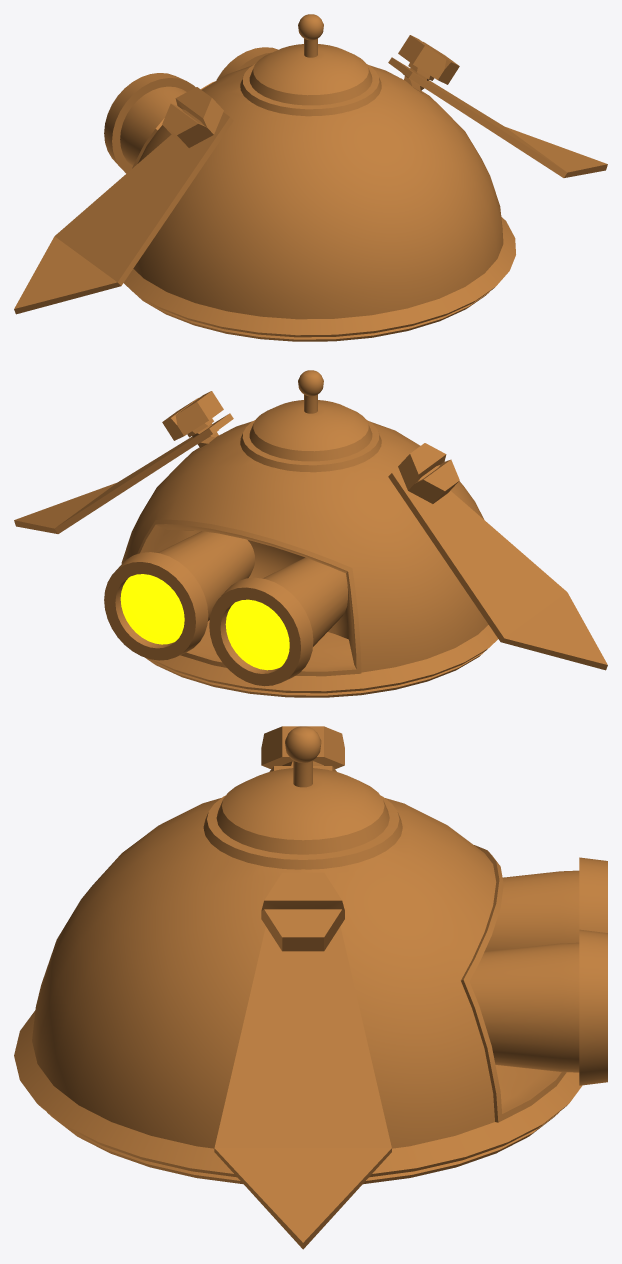
File: CK_Cog_Helper 1.fbx
3 renders of one model, top to bottom at view 1: azimuth 30°, elevation 25°; view 2: azimuth 150°, elevation 25°; view 3: azimuth 270°, elevation 25°, orthographic. The views are drawn at different scales.
Parts seen in each view (by area): view 1: Cube, Plane.001, Cube.001, Cylinder, Plane, Cylinder.002, Cylinder.001; view 2: Cube, Cylinder, Plane.001, Cube.001, Plane, Cylinder.002, Cylinder.001; view 3: Cube, Plane, Cylinder, Cube.001, Cylinder.001, Cylinder.002.
Part boxes in pixels (left/top/right/bottom): Cube: left=124, top=65, right=515, bottom=341; Plane.001: left=14, top=112, right=233, bottom=314; Cube.001: left=240, top=14, right=381, bottom=116; Cylinder: left=104, top=47, right=277, bottom=173; Plane: left=388, top=57, right=607, bottom=177; Cylinder.002: left=162, top=87, right=223, bottom=147; Cylinder.001: left=398, top=35, right=459, bottom=93; Cube: left=121, top=421, right=497, bottom=697; Cylinder: left=104, top=531, right=347, bottom=686; Plane.001: left=388, top=468, right=607, bottom=670; Cube.001: left=240, top=370, right=381, bottom=472; Plane: left=14, top=413, right=233, bottom=533; Cylinder.002: left=398, top=443, right=459, bottom=503; Cylinder.001: left=162, top=391, right=223, bottom=449; Cube: left=14, top=798, right=582, bottom=1184; Plane: left=214, top=926, right=391, bottom=1249; Cylinder: left=469, top=857, right=607, bottom=1085; Cube.001: left=203, top=726, right=402, bottom=869; Cylinder.001: left=261, top=872, right=344, bottom=951; Cylinder.002: left=261, top=726, right=344, bottom=769.
Size of the model in its own units: 302 by 142 by 186.
